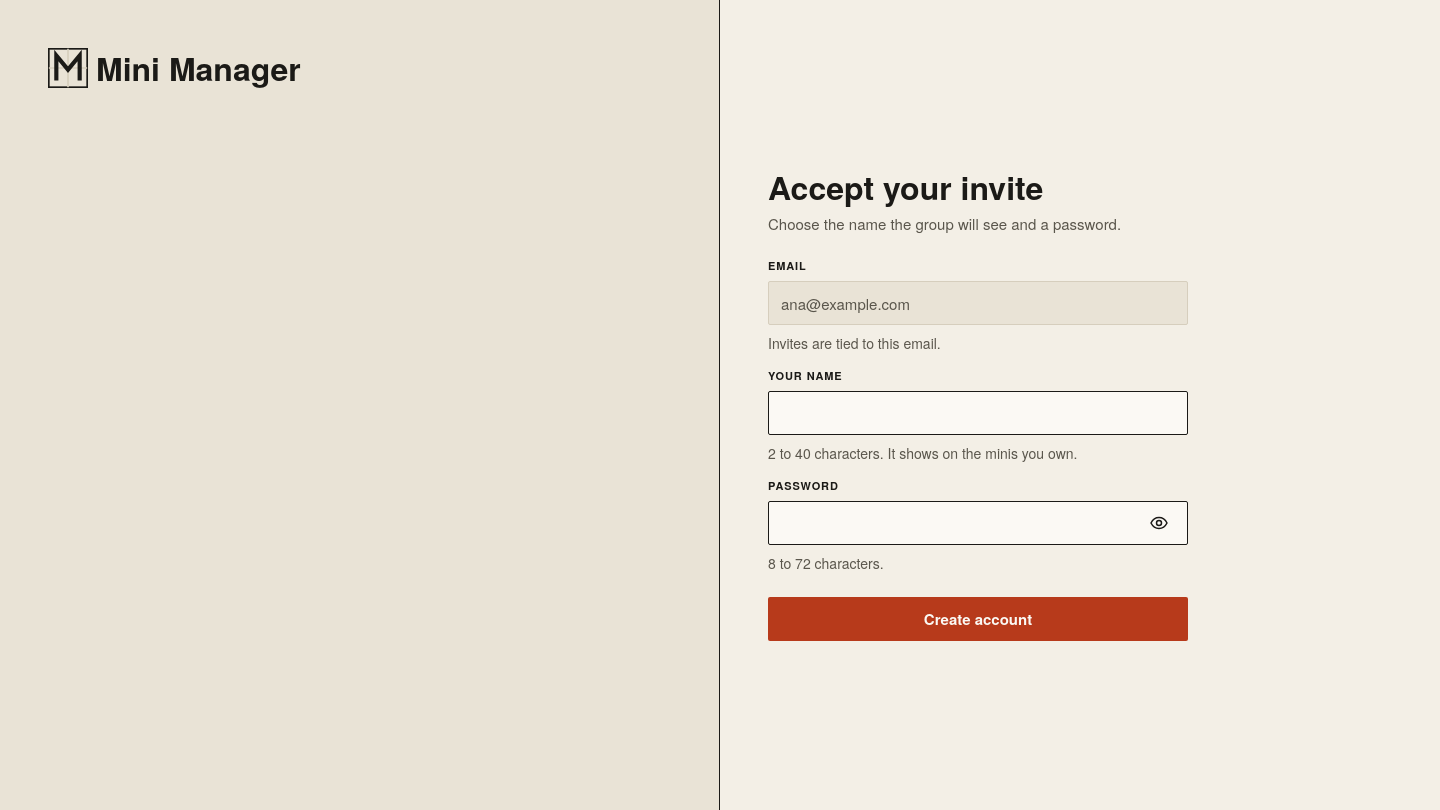
AcceptInvitePage › card 1 acceptance criterion 3: shows the invite email, signs up and lands on the Catalog
expect the field labelled "Email" holds "ana@example.com": met, box [781,282,1175,324]
Type "Ana" into the field labelled "Your name" at {"x": 978, "y": 413}, box [781,392,1175,434]
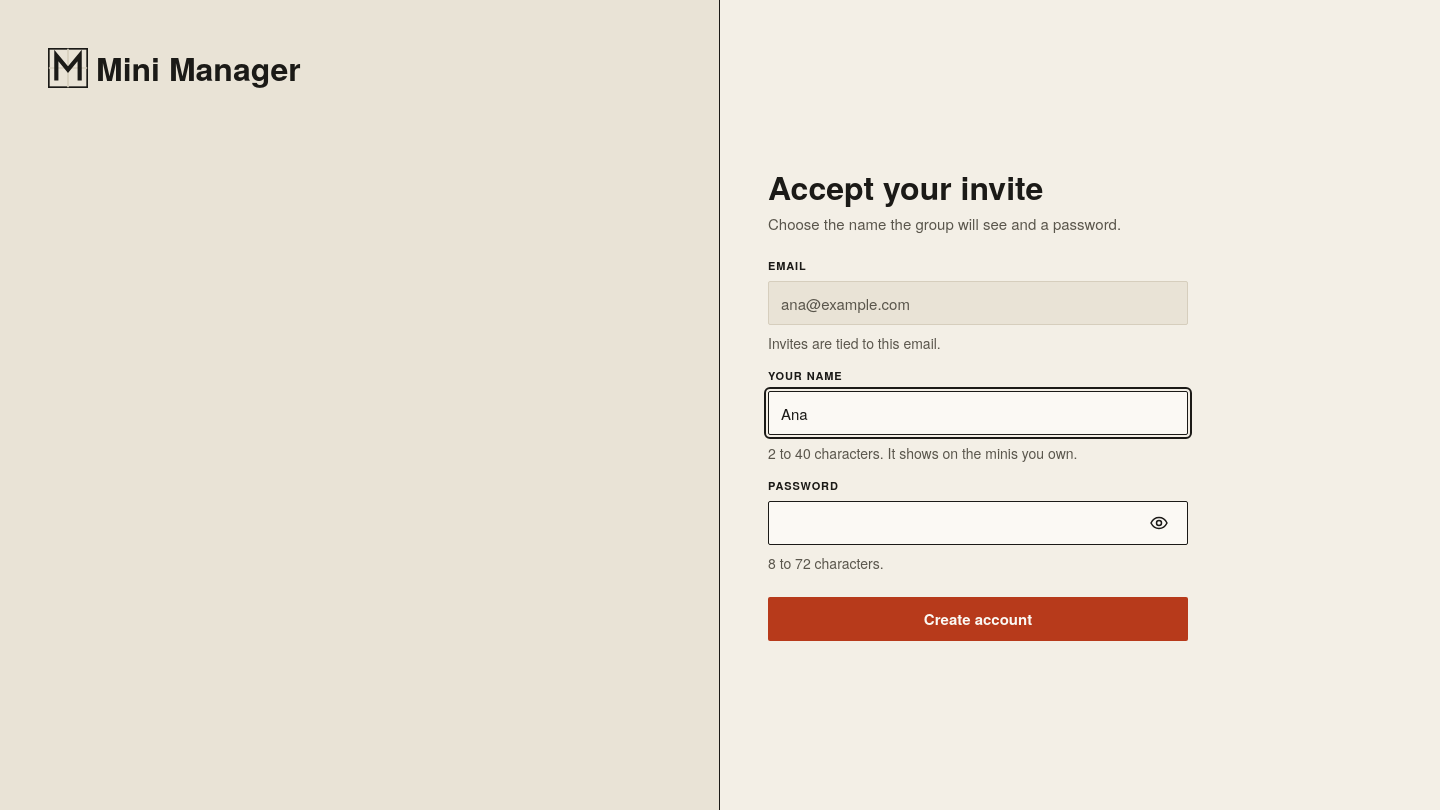
Type "a good password" into the password field labelled "Password" at {"x": 958, "y": 523}, box [781,502,1135,544]
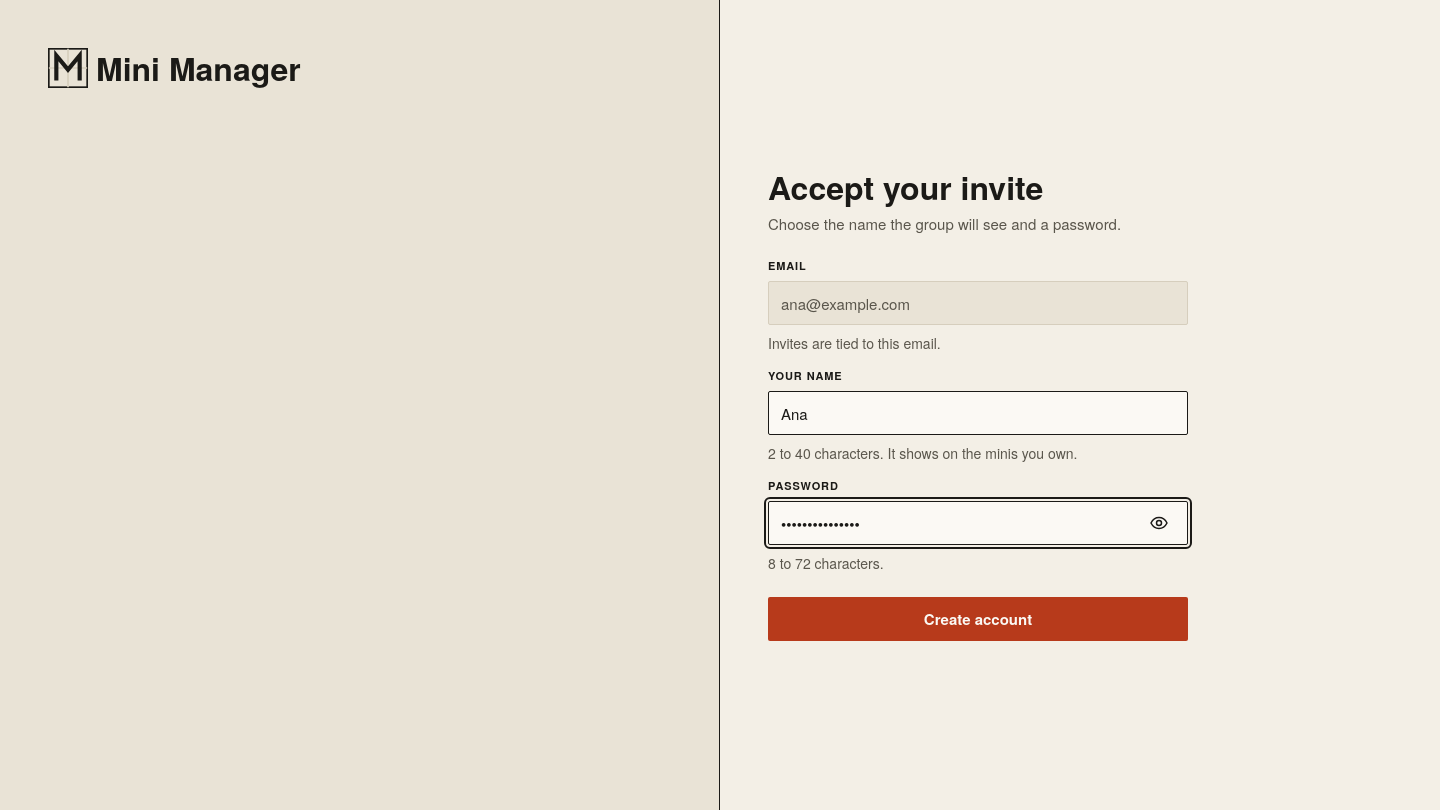
Click the button "Create account" at {"x": 978, "y": 619}, box [768,597,1188,641]
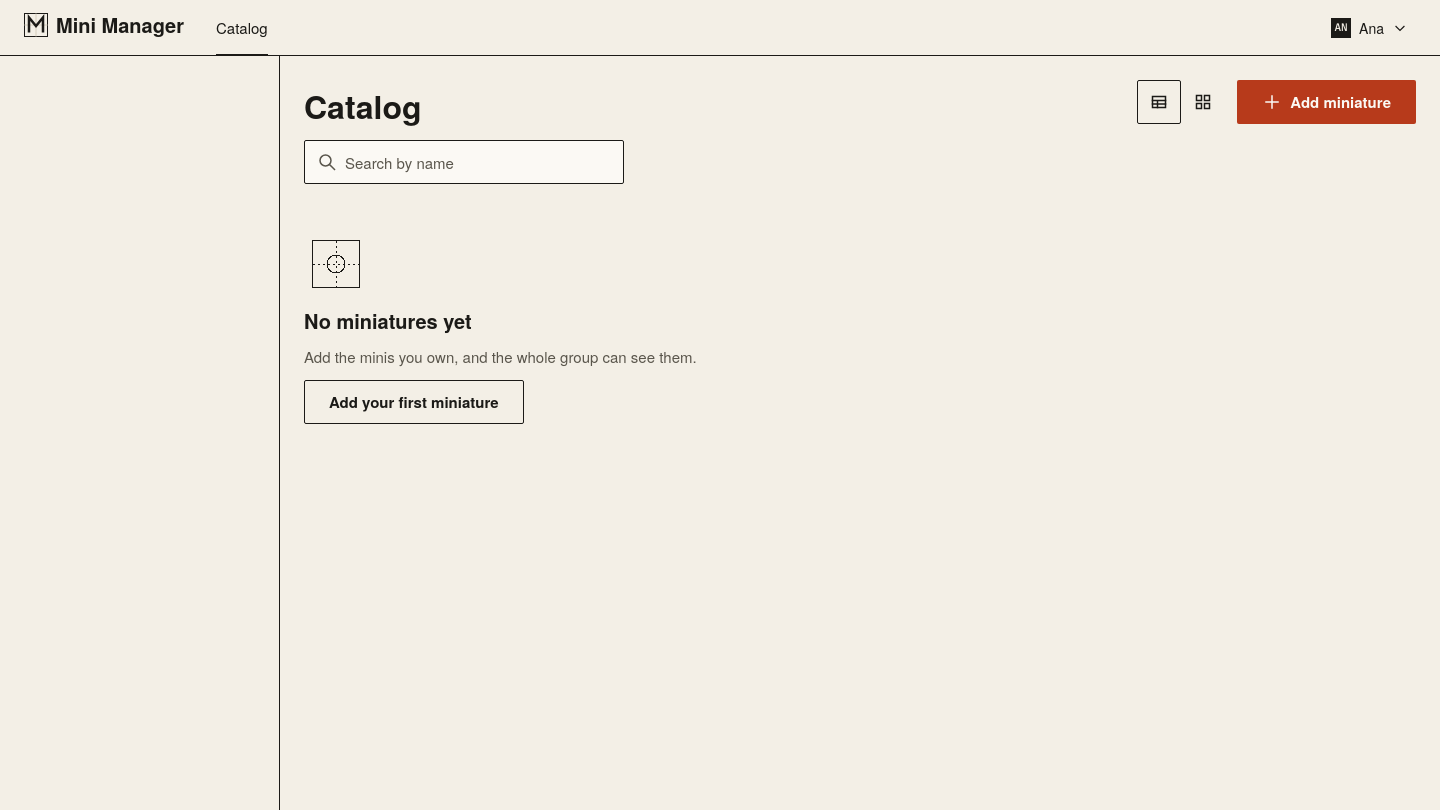
expect the heading "Catalog" is shown: met, box [304,88,422,124]
